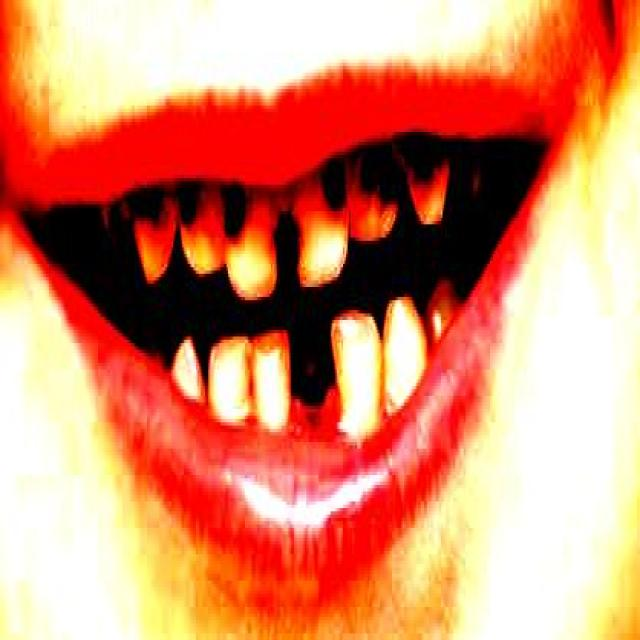caries: (298, 145, 355, 243), (126, 169, 176, 259), (354, 136, 397, 239), (171, 162, 213, 267), (221, 174, 265, 264)
